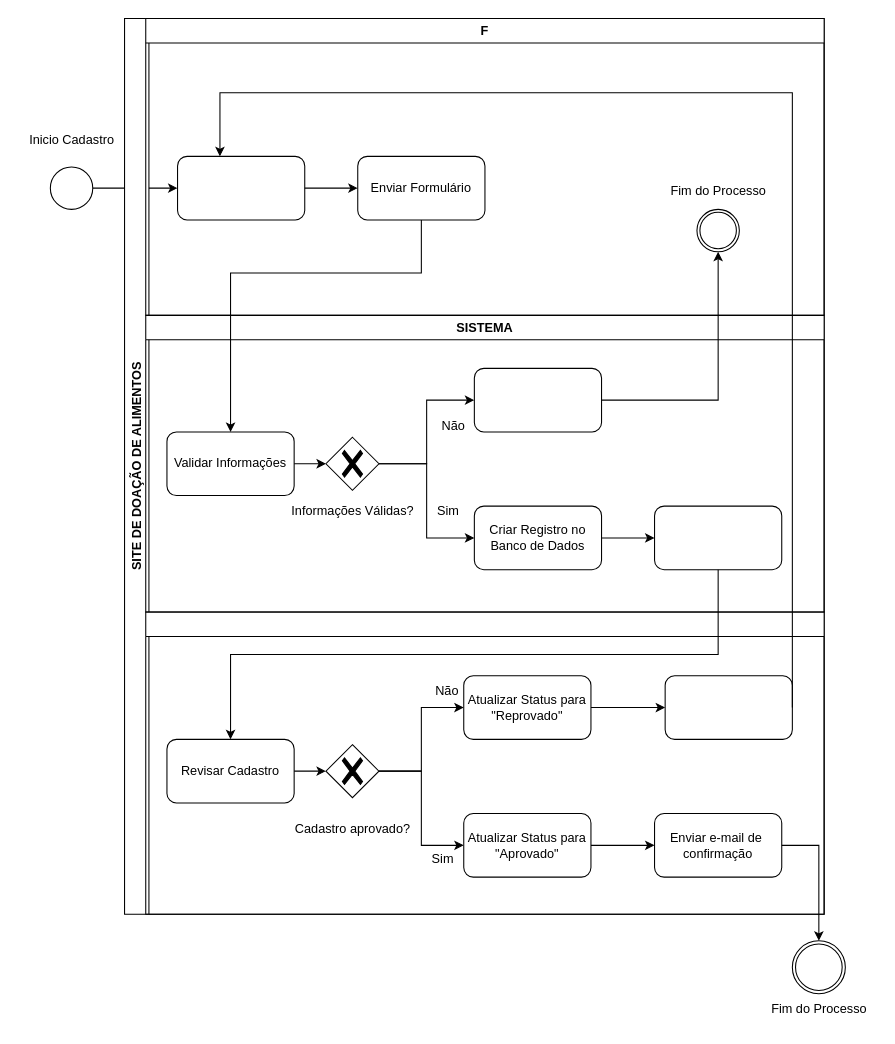
Image size: 895x1044. Some labels were removed from this diagram. The shapes that lost their labels are listed below. From the top down, each one's box as (x1, y1, x2, y2) in pixels, then its label:
(176, 155, 305, 220): Preencher Formulário de Cadastro
(473, 367, 602, 432): Retornar ao Usuário com erro
(653, 505, 782, 570): Notificar Administração
(664, 675, 792, 739): Enviar e-mail de justificativa
(145, 611, 824, 914): ADMINISTRAÇÃO
